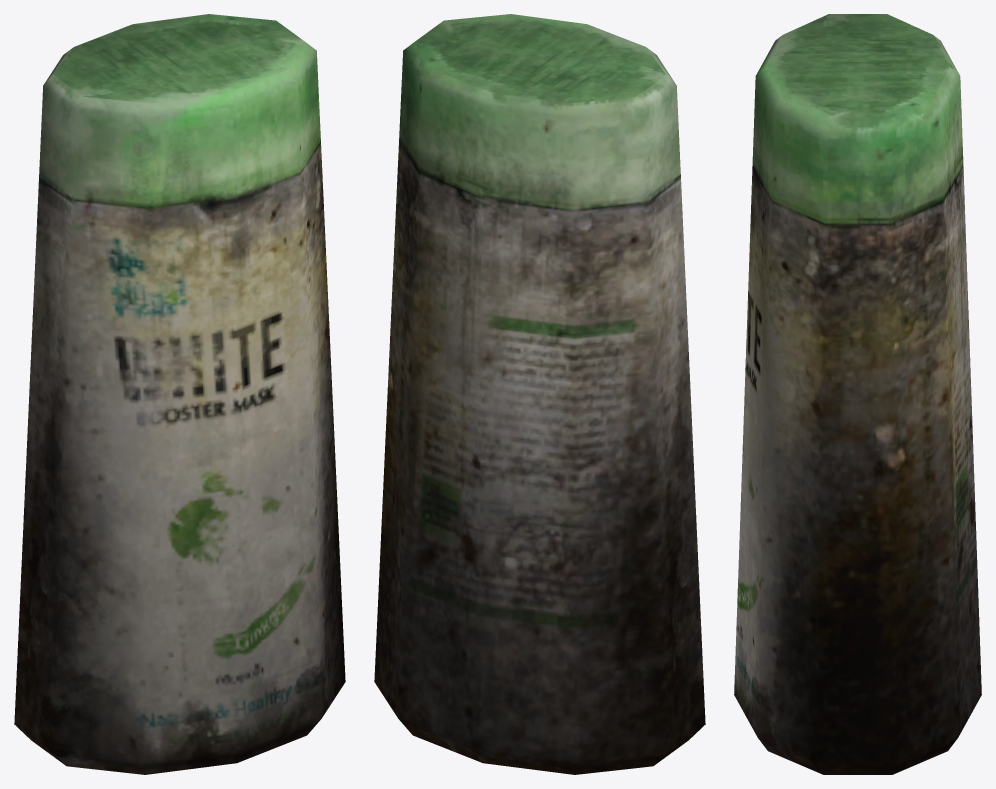
File: bathRoom10.FBX
3 views of the same model, side by side, from view 1: azimuth 30°, elevation 25°; view 2: azimuth 150°, elevation 25°; view 3: azimuth 270°, elevation 25° (orthographic). The views are drawn at different scales.
Visible parts, largest first — view 1: SM_Bathroom10; view 2: SM_Bathroom10; view 3: SM_Bathroom10.
Boxes of the visible parts, <box> form: SM_Bathroom10: <box>14,14,345,774</box>; SM_Bathroom10: <box>374,14,705,774</box>; SM_Bathroom10: <box>734,14,981,774</box>.
Size of the model in its own units: 9.5 by 20.62 by 7.17.
1 material, 1 textured.
